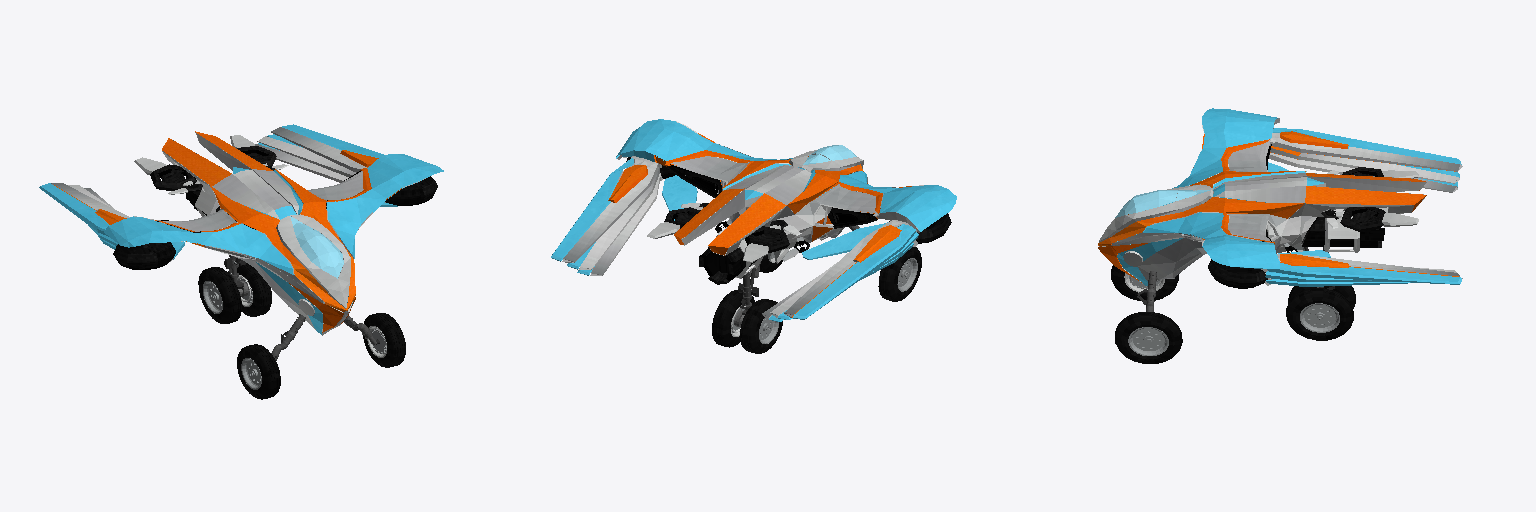
3 renders of one model, left to right at view 1: azimuth 30°, elevation 25°; view 2: azimuth 150°, elevation 25°; view 3: azimuth 270°, elevation 25°, orthographic.
Visible parts, largest first — view 1: PartePlata, ParteNaranja, AlaIzqAzul, AlaDerechaAzul, ParteNegra, Cristal, mirage_2000_polySurface290, LLantaNAve2, mirage_2000_polySurface127, mirage_2000_polySurface255, ParteAzul5; view 2: PartePlata, ParteNaranja, AlaIzqAzul, AlaDerechaAzul, ParteNegra, PARTEaZUL3, mirage_2000_polySurface290, mirage_2000_polySurface255, LLantaNAve2, Cristal; view 3: PartePlata, ParteNaranja, AlaDerechaAzul, AlaIzqAzul, ParteNegra, mirage_2000_polySurface255, mirage_2000_polySurface127, Cristal, LLantaTI, mirage_2000_polySurface129, LLantaNAve2, ParteAzul5.
Part boxes in pixels (x1,y1,x2,y2): PartePlata: (51, 127, 425, 335); ParteNaranja: (54, 131, 401, 332); AlaIzqAzul: (39, 183, 293, 274); AlaDerechaAzul: (258, 124, 443, 258); ParteNegra: (113, 146, 437, 269); Cristal: (290, 216, 343, 278); mirage_2000_polySurface290: (198, 267, 241, 323); LLantaNAve2: (237, 344, 280, 399); mirage_2000_polySurface127: (363, 313, 405, 367); mirage_2000_polySurface255: (237, 263, 271, 316); ParteAzul5: (256, 262, 353, 334); PartePlata: (562, 121, 923, 318); ParteNaranja: (608, 133, 911, 317); AlaIzqAzul: (769, 171, 956, 321); AlaDerechaAzul: (551, 119, 792, 275); ParteNegra: (626, 157, 951, 284); PARTEaZUL3: (662, 175, 887, 259); mirage_2000_polySurface290: (740, 299, 782, 353); mirage_2000_polySurface255: (712, 290, 754, 347); LLantaNAve2: (878, 247, 921, 301); Cristal: (803, 145, 856, 164); PartePlata: (1099, 118, 1462, 286); ParteNaranja: (1098, 131, 1458, 282); AlaDerechaAzul: (1143, 212, 1461, 286); AlaIzqAzul: (1172, 108, 1461, 188); ParteNegra: (1208, 144, 1385, 288); mirage_2000_polySurface255: (1286, 288, 1353, 340); mirage_2000_polySurface127: (1115, 312, 1182, 363); Cristal: (1115, 190, 1209, 217); LLantaTI: (1300, 303, 1339, 332); mirage_2000_polySurface129: (1128, 327, 1168, 355); LLantaNAve2: (1111, 265, 1178, 300); ParteAzul5: (1117, 202, 1182, 285).
Size of the model in its own units: 23.88 by 10.84 by 23.63.
Materials: 9 (6 with a texture image).